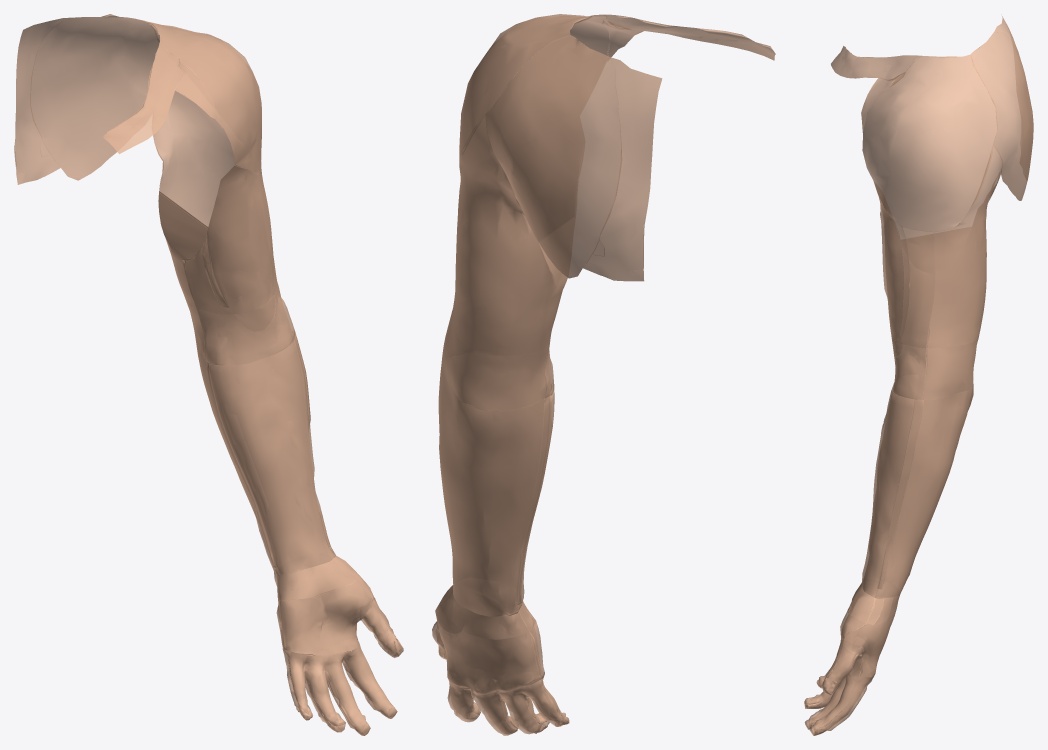
Rendered from regions.upper_limb_left.glb.
3 renders of one model, left to right at view 1: azimuth 30°, elevation 25°; view 2: azimuth 150°, elevation 25°; view 3: azimuth 270°, elevation 25°, orthographic. The views are drawn at different scales.
Visible parts, largest first — view 1: left_anterior_region_of_forearm, left_scapular_region, left_anterior_region_of_arm, left_posterior_region_of_arm, left_deltoid_region, left_palmar_surfaces_of_digits_of_hand, left_palm, left_anterior_region_of_elbow, left_interscapular_region, left_infraclavicular_fossa, left_anterior_region_of_wrist, left_dorsal_surfaces_of_digits_of_hand (+4 smaller); view 2: left_scapular_region, left_posterior_region_of_forearm, left_posterior_region_of_arm, left_interscapular_region, left_deltoid_region, left_posterior_region_of_elbow, left_dorsum_of_hand, left_dorsal_surfaces_of_digits_of_hand, left_infraclavicular_fossa, left_posterior_region_of_wrist, left_medial_border_of_forearm, left_anterior_region_of_forearm (+2 smaller); view 3: left_deltoid_region, left_posterior_region_of_arm, left_posterior_region_of_forearm, left_scapular_region, left_anterior_region_of_arm, left_anterior_region_of_forearm, left_posterior_region_of_elbow, left_dorsal_surfaces_of_digits_of_hand, left_infraclavicular_fossa, left_palmar_surfaces_of_digits_of_hand, left_anterior_region_of_elbow, left_lateral_border_of_forearm (+6 smaller).
Part boxes in pixels (x1,y1,x2,y2): left_anterior_region_of_forearm: (207, 332, 335, 574); left_scapular_region: (30, 14, 159, 180); left_anterior_region_of_arm: (181, 164, 277, 313); left_posterior_region_of_arm: (153, 90, 234, 309); left_deltoid_region: (138, 19, 261, 175); left_palmar_surfaces_of_digits_of_hand: (284, 600, 399, 735); left_palm: (278, 575, 373, 655); left_anterior_region_of_elbow: (197, 282, 295, 365); left_interscapular_region: (14, 17, 73, 184); left_infraclavicular_fossa: (102, 41, 183, 154); left_anterior_region_of_wrist: (278, 556, 359, 600); left_dorsal_surfaces_of_digits_of_hand: (282, 597, 403, 735); left_scapular_region: (485, 35, 622, 278); left_posterior_region_of_forearm: (438, 366, 544, 616); left_posterior_region_of_arm: (451, 115, 567, 356); left_interscapular_region: (583, 57, 662, 281); left_deltoid_region: (459, 14, 609, 166); left_posterior_region_of_elbow: (441, 310, 548, 411); left_dorsum_of_hand: (435, 598, 543, 695); left_dorsal_surfaces_of_digits_of_hand: (432, 621, 569, 735); left_infraclavicular_fossa: (604, 14, 775, 60); left_posterior_region_of_wrist: (439, 585, 529, 639); left_medial_border_of_forearm: (515, 394, 552, 604); left_anterior_region_of_forearm: (518, 382, 554, 609); left_deltoid_region: (862, 54, 997, 231); left_posterior_region_of_arm: (926, 145, 1002, 348); left_posterior_region_of_forearm: (875, 384, 973, 598); left_scapular_region: (970, 32, 1033, 200); left_anterior_region_of_arm: (874, 183, 935, 348); left_anterior_region_of_forearm: (862, 390, 914, 597); left_posterior_region_of_elbow: (923, 338, 978, 399); left_dorsal_surfaces_of_digits_of_hand: (804, 640, 872, 735); left_infraclavicular_fossa: (831, 46, 921, 80); left_palmar_surfaces_of_digits_of_hand: (804, 640, 859, 735); left_anterior_region_of_elbow: (891, 344, 927, 399); left_lateral_border_of_forearm: (877, 399, 923, 589).
Size of the model in its own units: 0.3164 by 0.7161 by 0.2416.
